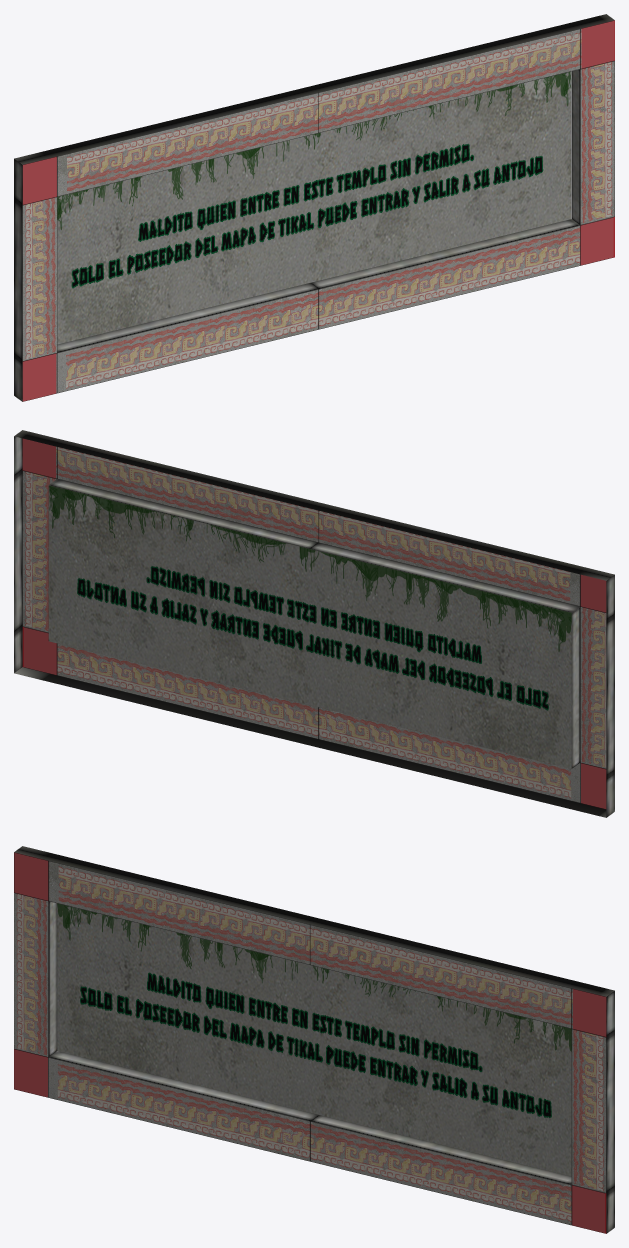
Rendered from Maldicion.glb.
3 views of the same model, one above another, from view 1: azimuth 30°, elevation 25°; view 2: azimuth 150°, elevation 25°; view 3: azimuth 330°, elevation 25° (orthographic).
Visible parts, largest first — view 1: Cartel_Maya.001, Cartel_Maya; view 2: Cartel_Maya.001, Cartel_Maya; view 3: Cartel_Maya.001, Cartel_Maya.
Boxes of the visible parts, box(x1,y1,x2,y2) form: Cartel_Maya.001: box(57, 71, 571, 344); Cartel_Maya: box(14, 14, 614, 401); Cartel_Maya.001: box(49, 485, 571, 768); Cartel_Maya: box(14, 430, 614, 817); Cartel_Maya.001: box(57, 903, 571, 1176); Cartel_Maya: box(14, 846, 614, 1233).
Bounding box in the file's own units: 2.04 × 0.7804 × 0.0509.
Materials: 2 (2 with a texture image).
